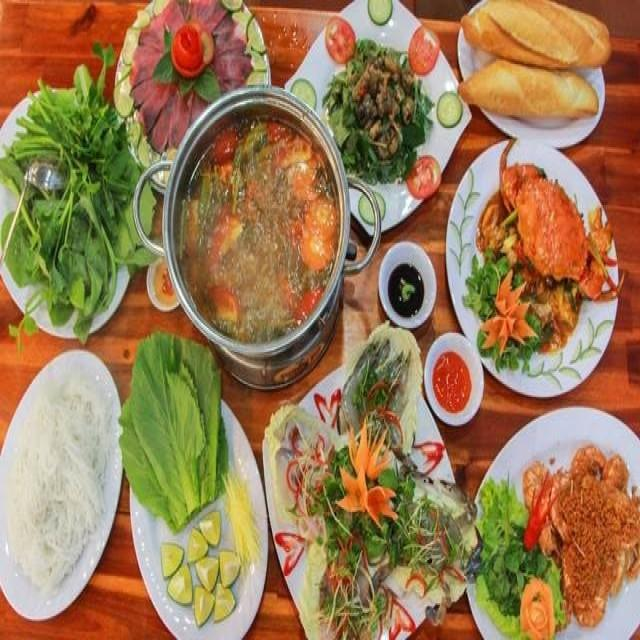banh mi: (458, 8, 616, 122)
bun: (3, 364, 110, 586)
cua ram me: (459, 153, 624, 371)
lau thai: (2, 9, 352, 352)
oc xao: (356, 50, 420, 160)
tom chay toi: (471, 415, 639, 633)
tom song: (273, 357, 463, 635)
tuong ot: (443, 368, 463, 405)
